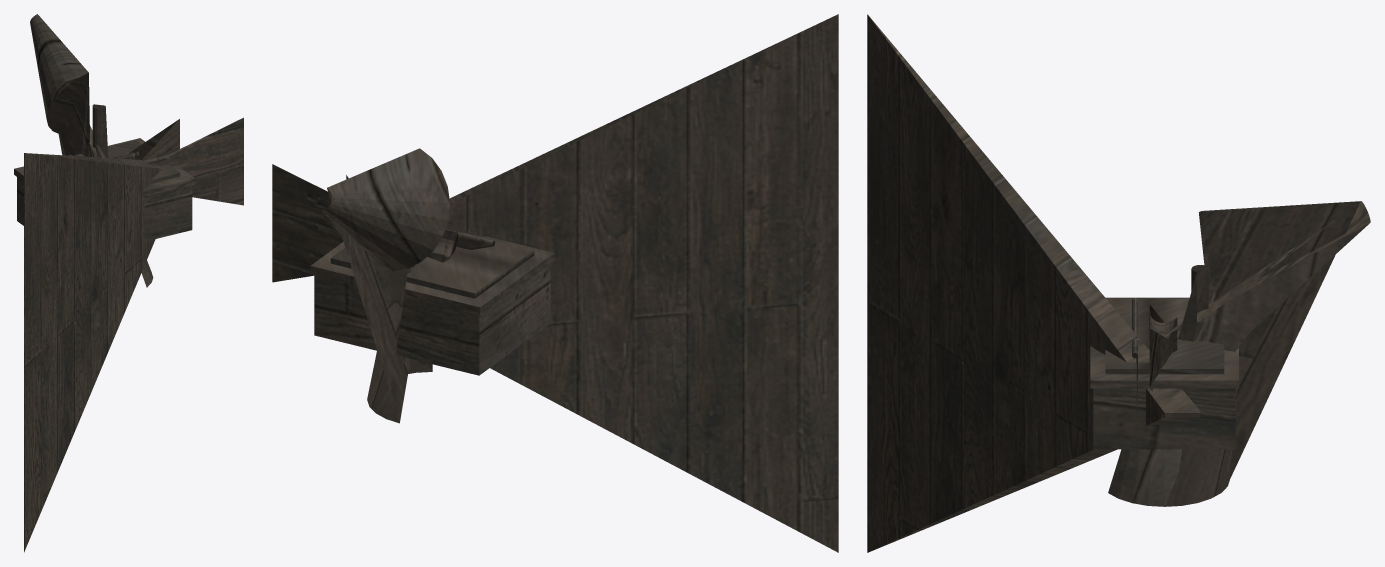
Rendered from SM_Prop_Phonograph_01.glb.
3 renders of one model, left to right at view 1: azimuth 30°, elevation 25°; view 2: azimuth 150°, elevation 25°; view 3: azimuth 270°, elevation 25°, orthographic. The views are drawn at different scales.
Visible parts, largest first — view 1: SM_Prop_Phonograph_01; view 2: SM_Prop_Phonograph_01; view 3: SM_Prop_Phonograph_01.
Boxes of the visible parts, bbox=[...] form: SM_Prop_Phonograph_01: bbox=[14, 14, 243, 552]; SM_Prop_Phonograph_01: bbox=[272, 14, 838, 552]; SM_Prop_Phonograph_01: bbox=[867, 14, 1370, 552].
Size of the model in its own units: 0.8375 by 1 by 0.8463.
Materials: 1 (1 with a texture image).
